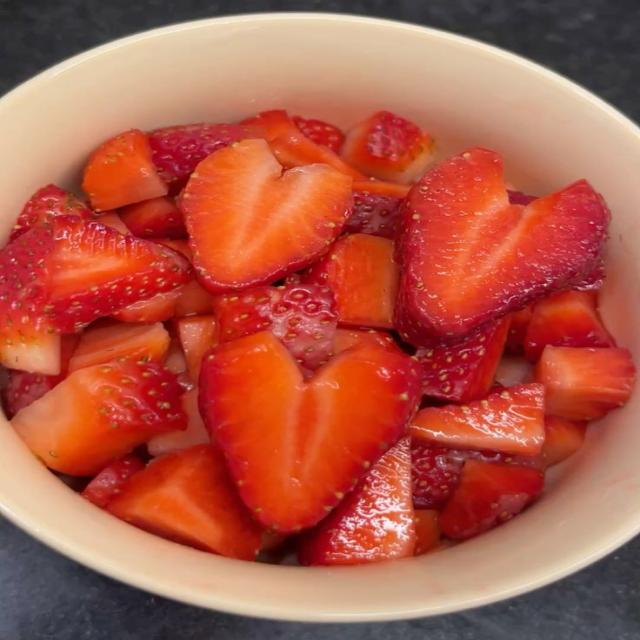strawberry sliced: (200, 331, 419, 532), (396, 148, 609, 346), (0, 216, 192, 373), (180, 140, 352, 292), (12, 360, 186, 475), (107, 445, 262, 559), (299, 438, 415, 565), (215, 285, 337, 369), (409, 383, 544, 455), (303, 234, 398, 328), (241, 110, 366, 180), (440, 460, 543, 540), (416, 317, 509, 402), (147, 124, 260, 193), (536, 346, 635, 420), (83, 130, 167, 211), (341, 111, 433, 183), (412, 441, 508, 508), (3, 335, 79, 418), (525, 291, 614, 361), (69, 323, 170, 371), (10, 184, 92, 241), (147, 389, 210, 457), (345, 181, 408, 239), (112, 281, 193, 323), (82, 455, 144, 508), (176, 314, 218, 382), (120, 197, 186, 238), (542, 416, 586, 467), (293, 116, 344, 153), (240, 110, 296, 142), (333, 328, 399, 354), (174, 280, 213, 317), (507, 305, 533, 354), (495, 355, 533, 387), (414, 509, 440, 555), (571, 260, 605, 290), (165, 338, 187, 379), (94, 212, 131, 234), (507, 190, 537, 205)
